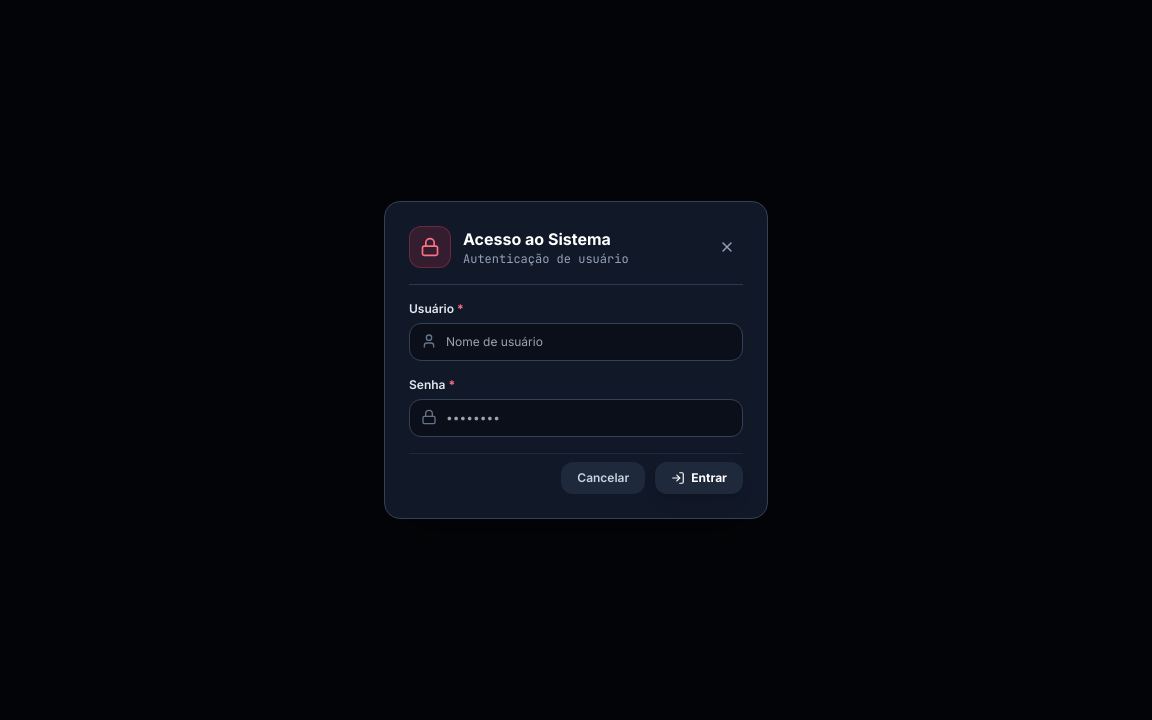
LoginModal Component Tests › disables submit while submitting or when fields are empty
Check: the button with test id "login-submit-btn" is disabled, box x1=655 y1=462 x2=743 y2=494
Step 1. Type "admin" into the field with test id "login-username-input" → (576, 342), box x1=409 y1=323 x2=743 y2=361
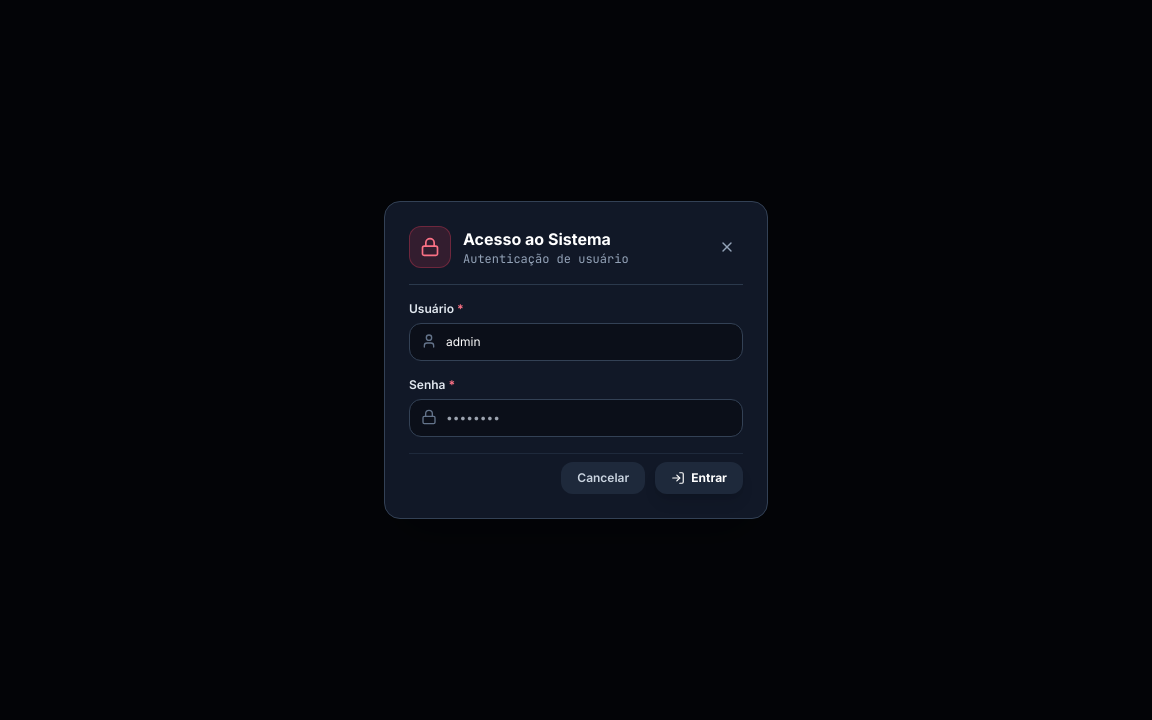
Check: the button with test id "login-submit-btn" is disabled, box x1=655 y1=462 x2=743 y2=494
Step 2. Type "x" into the password field with test id "login-password-input" → (576, 418), box x1=409 y1=399 x2=743 y2=437
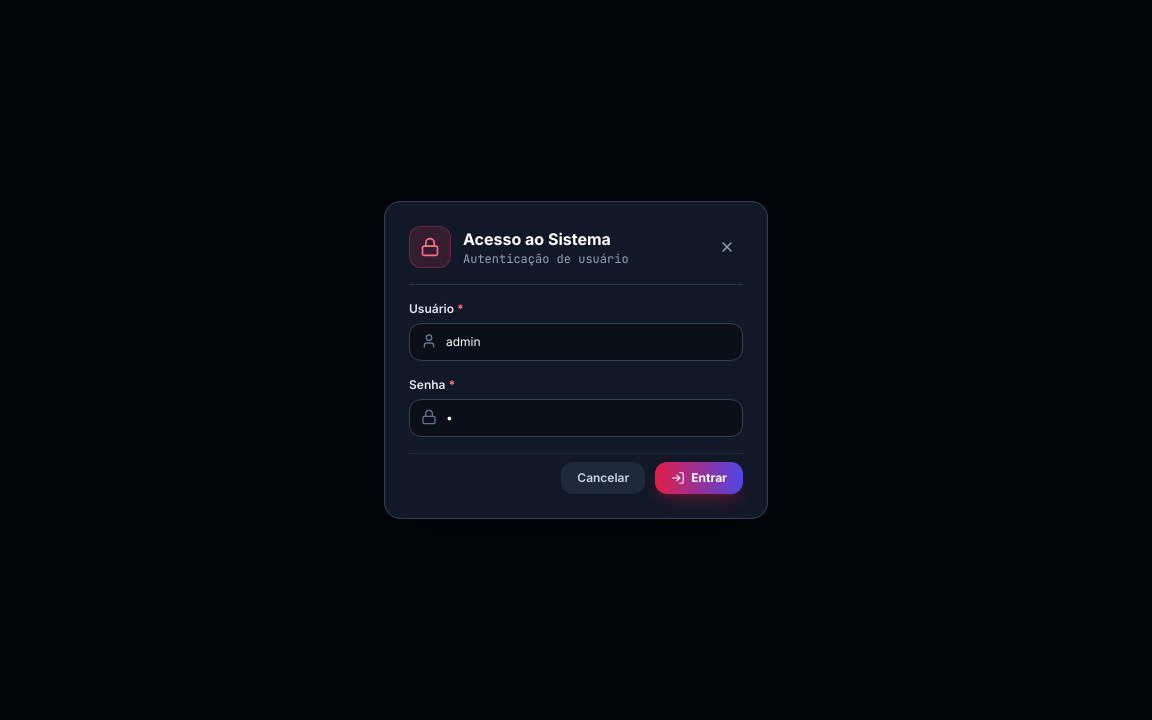
Check: the button with test id "login-submit-btn" is enabled, box x1=655 y1=462 x2=743 y2=494
